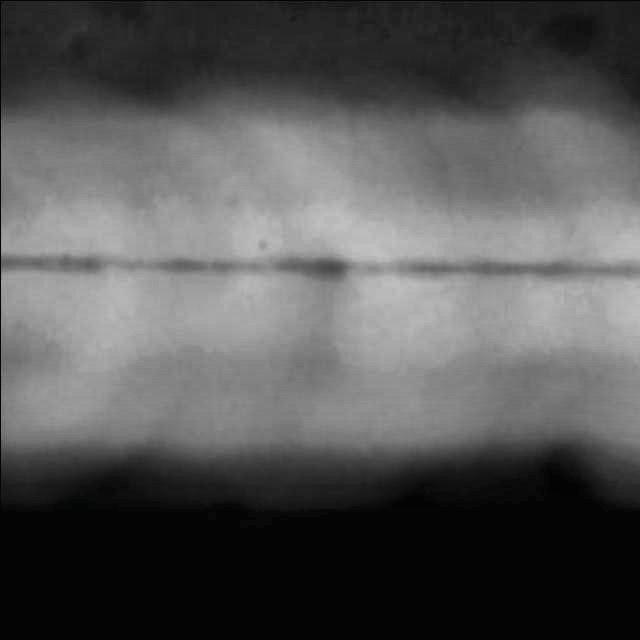LoP-LoF: (4, 222, 640, 318)
